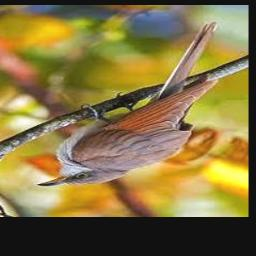Cuckoo: (37, 22, 219, 187)
